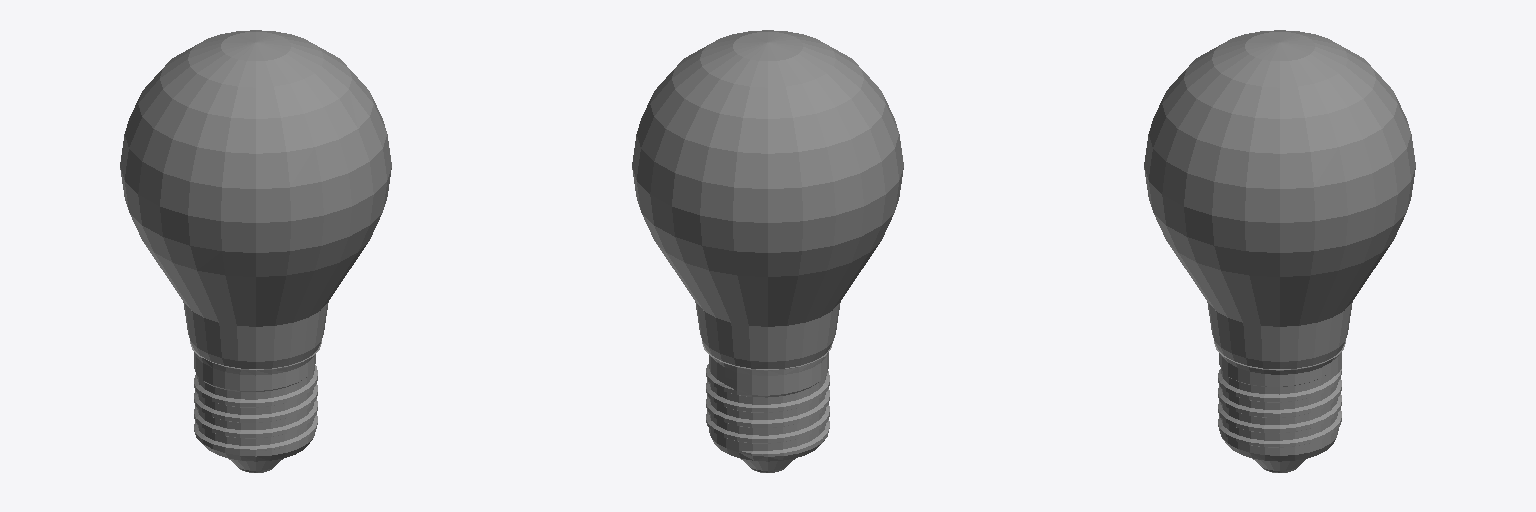
The model's file is Bulb.obj.
3 views of the same model, side by side, from view 1: azimuth 30°, elevation 25°; view 2: azimuth 150°, elevation 25°; view 3: azimuth 270°, elevation 25° (orthographic).
Parts seen in each view (by area): view 1: LightBulb; view 2: LightBulb; view 3: LightBulb.
Boxes of the visible parts, x1=… form: LightBulb: x1=120, y1=30, x2=391, y2=472; LightBulb: x1=632, y1=30, x2=903, y2=472; LightBulb: x1=1144, y1=30, x2=1415, y2=472.
Bounding box in the file's own units: 2.14 × 3.71 × 2.14.